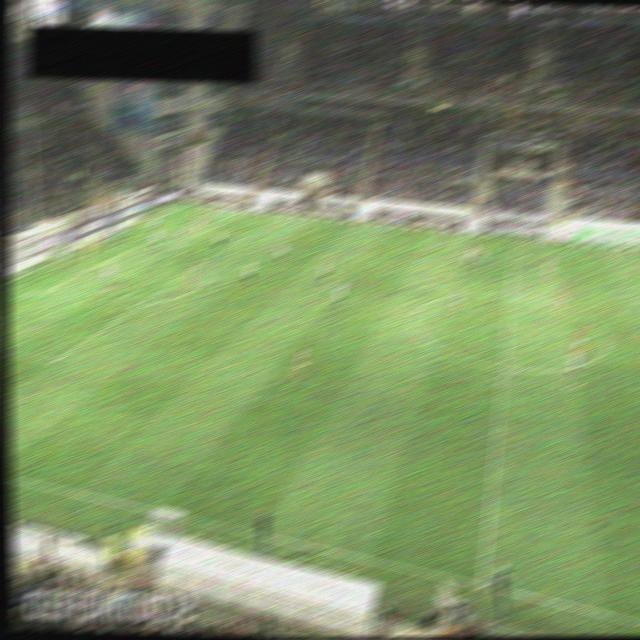bigarea_bottom_inner: (44, 356, 61, 367)
bigarea_top_inner: (233, 231, 250, 242)
bigarea_top_outter: (129, 220, 147, 232)
bottom_arc_area_intersection: (129, 300, 146, 311)
corner: (173, 201, 191, 212)
halfcircle_bottom: (495, 361, 512, 372)
halfcircle_top: (502, 289, 519, 300)
midline_bottom_intersection: (471, 577, 493, 592)
midline_top_intersection: (506, 232, 524, 243)
smallarea_bottom_inner: (22, 291, 40, 302)
smallarea_top_inner: (119, 243, 136, 254)
smallarea_top_outter: (84, 239, 101, 250)
top_arc_area_intersection: (192, 258, 210, 269)
